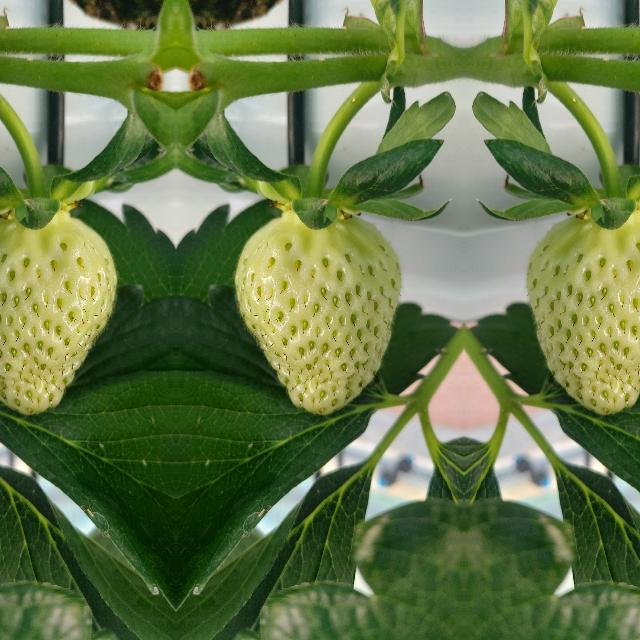Health_25: (232, 213, 400, 415), (0, 213, 118, 415), (525, 213, 640, 415)
